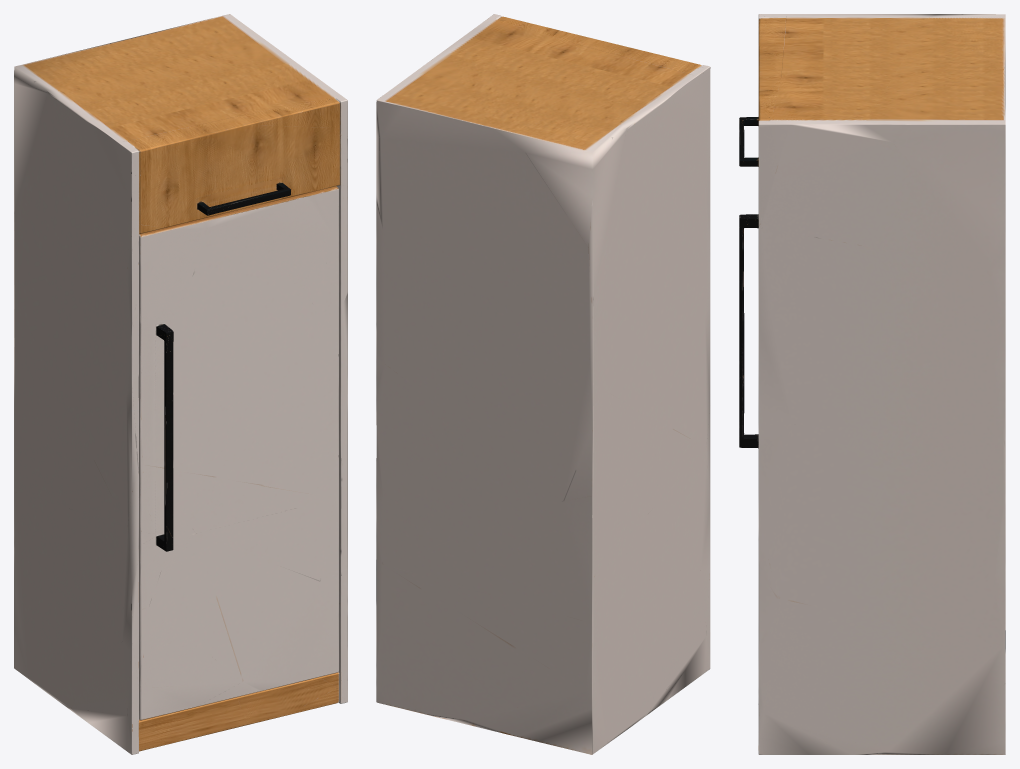
Rendered from fridge-built-in.glb.
3 views of the same model, side by side, from view 1: azimuth 30°, elevation 25°; view 2: azimuth 150°, elevation 25°; view 3: azimuth 270°, elevation 25° (orthographic). The views are drawn at different scales.
Parts seen in each view (by area): view 1: Mesh_0; view 2: Mesh_0; view 3: Mesh_0.
Part boxes in pixels (x1,y1,x2,y2): Mesh_0: [14, 14, 347, 754]; Mesh_0: [376, 14, 710, 754]; Mesh_0: [739, 14, 1005, 754].
Size of the model in its own units: 0.7517 by 2 by 0.766.
1 material, 1 textured.
